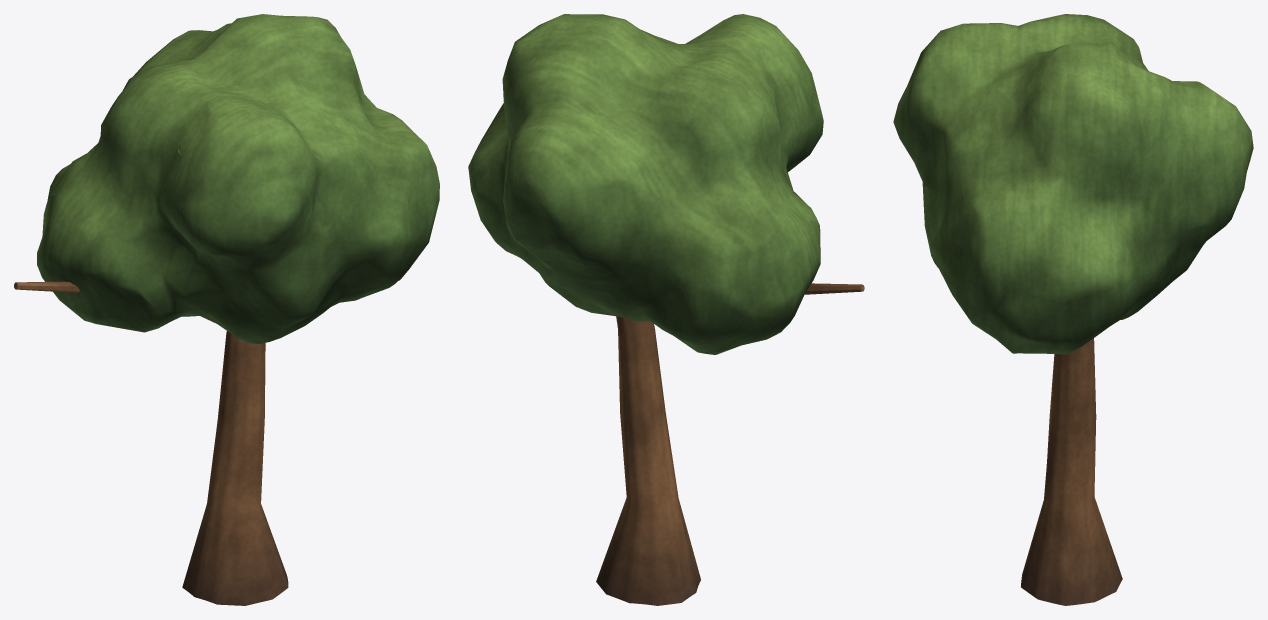
Rendered from tree.glb.
3 views of the same model, side by side, from view 1: azimuth 30°, elevation 25°; view 2: azimuth 150°, elevation 25°; view 3: azimuth 270°, elevation 25° (orthographic).
Visible parts, largest first — view 1: Tree; view 2: Tree; view 3: Tree.
Part boxes in pixels (left/top/right/bottom): Tree: left=14, top=14, right=439, bottom=605; Tree: left=468, top=14, right=864, bottom=605; Tree: left=893, top=14, right=1253, bottom=605.
Size of the model in its own units: 2.21 by 2.96 by 1.74.
Materials: 1 (1 with a texture image).
